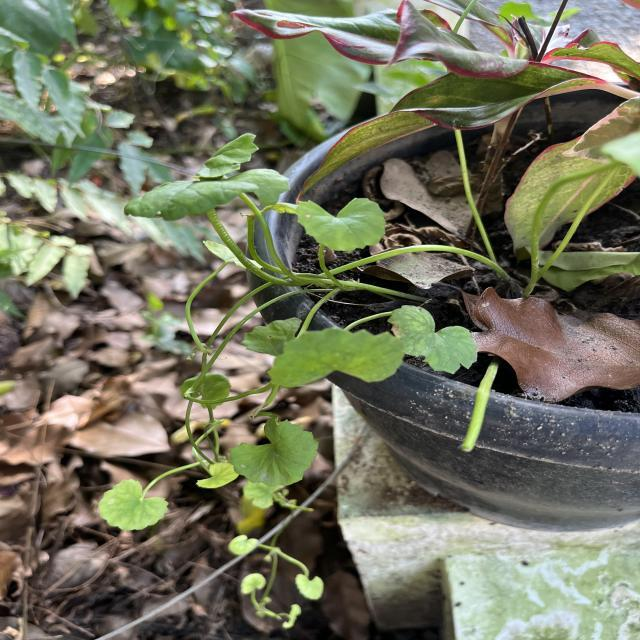Centella asiatica: (382, 303, 480, 377), (225, 414, 322, 488), (292, 195, 388, 254), (95, 476, 172, 534)
